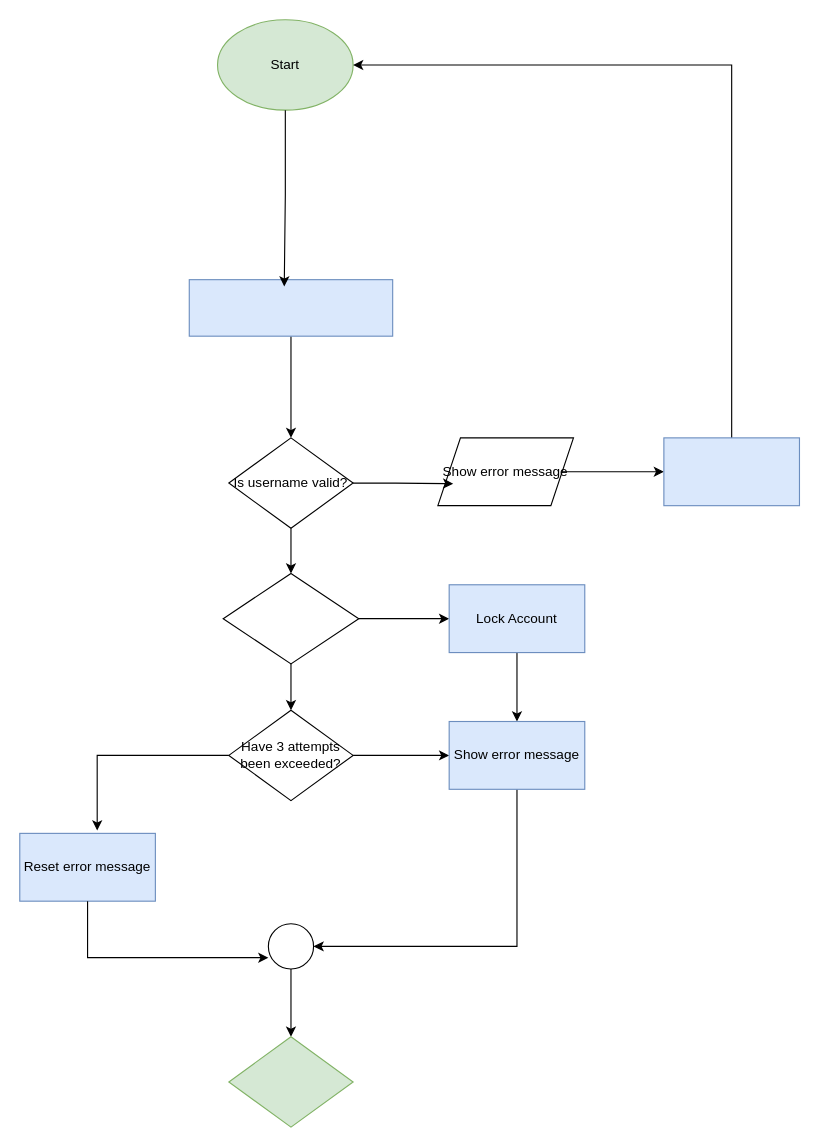
The diagram is 819 pixels wide and 1147 high, and some of its shapes have lost their labels. Each missing label, with the centre of its shape:
"Enter username and password" goes at point 290,307.
"Increment attempts" goes at point 731,471.
"Is password correct?" goes at point 290,618.
